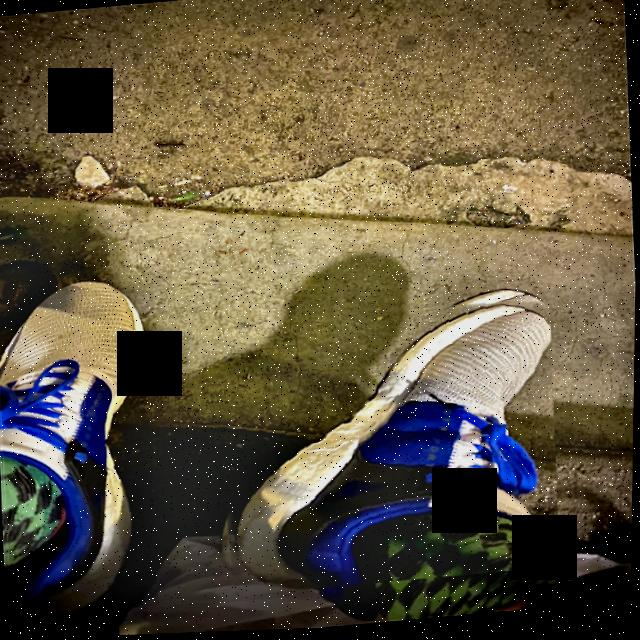shoe: (202, 287, 565, 599), (0, 273, 164, 619)
